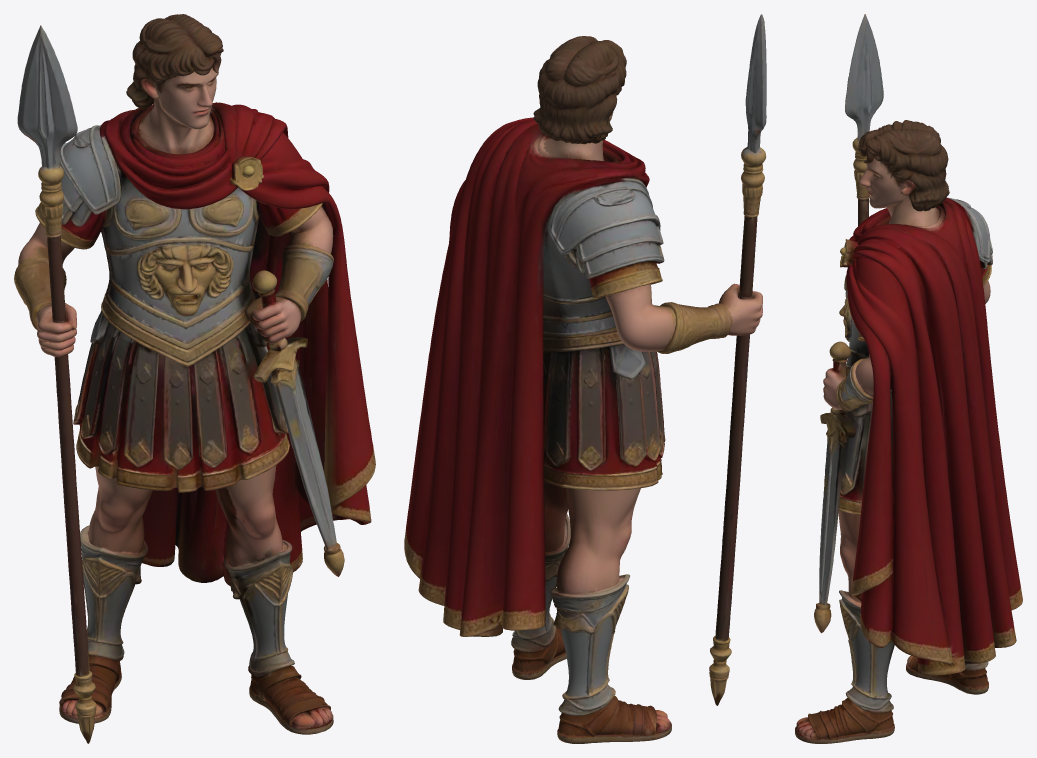
Rendered from Alexandros compressed (2).glb.
The picture shows the model from 3 angles, left to right: view 1: azimuth 30°, elevation 25°; view 2: azimuth 150°, elevation 25°; view 3: azimuth 270°, elevation 25°; orthographic projection. The views are drawn at different scales.
Visible parts, largest first — view 1: node_0; view 2: node_0; view 3: node_0.
Part boxes in pixels (box(x1,y1,x2,y2)): node_0: box(14, 14, 375, 743); node_0: box(404, 14, 766, 743); node_0: box(795, 14, 1022, 743).
Bounding box in the file's own units: 0.5365 × 1.08 × 0.3587.
Materials: 1 (1 with a texture image).
